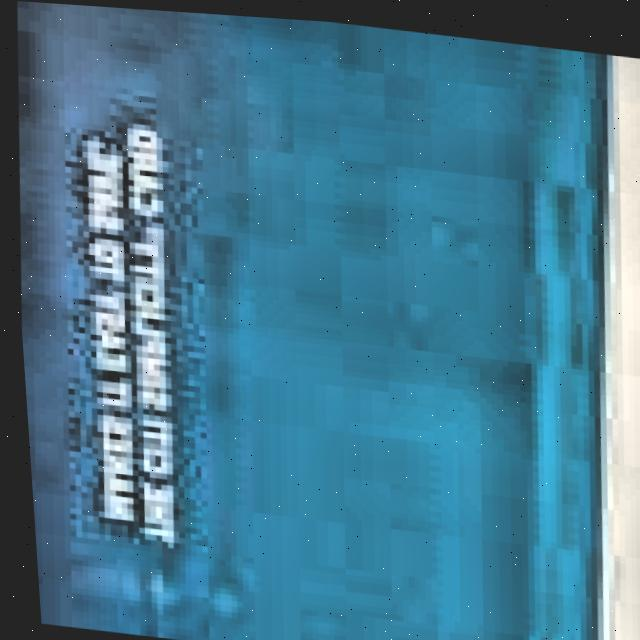glass: (16, 1, 640, 640)
